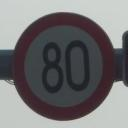speed_limit_80: (9, 10, 120, 121)
